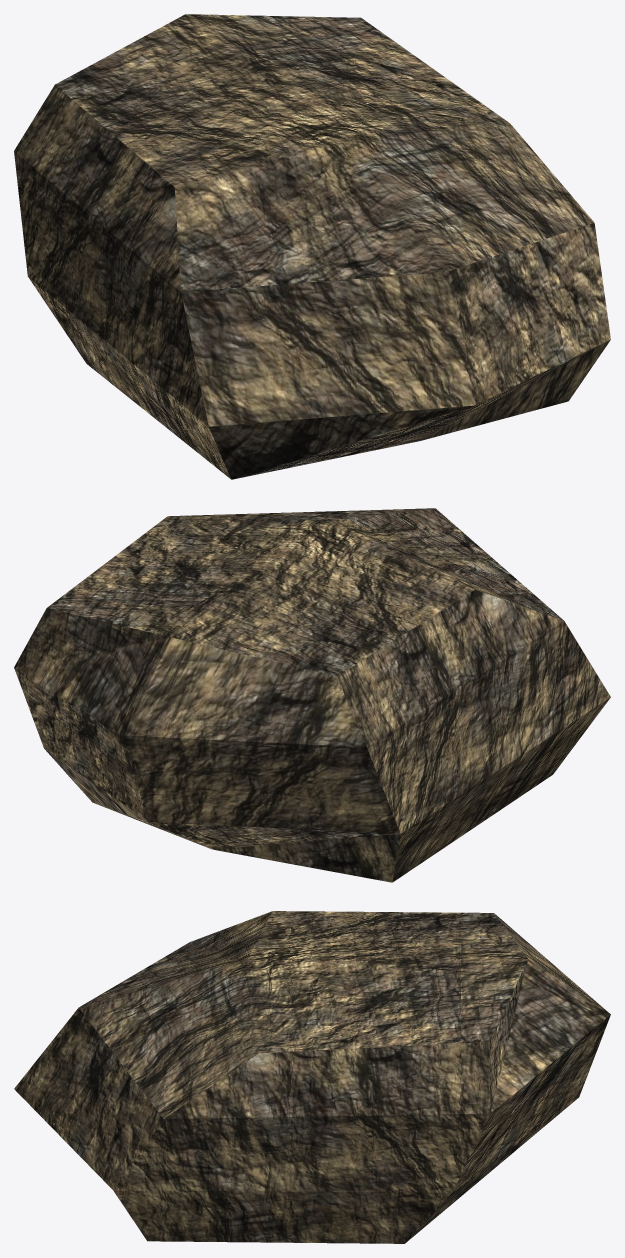
File: rock 2.obj
The picture shows the model from 3 angles, top to bottom: view 1: azimuth 30°, elevation 25°; view 2: azimuth 150°, elevation 25°; view 3: azimuth 270°, elevation 25°; orthographic projection. The views are drawn at different scales.
Parts seen in each view (by area): view 1: Cube.004; view 2: Cube.004; view 3: Cube.004.
Boxes of the visible parts, x1,y1,x2,y2 form: Cube.004: (14, 14, 610, 479); Cube.004: (14, 508, 610, 882); Cube.004: (14, 911, 610, 1243).
Size of the model in its own units: 1.27 by 0.7839 by 1.92.
